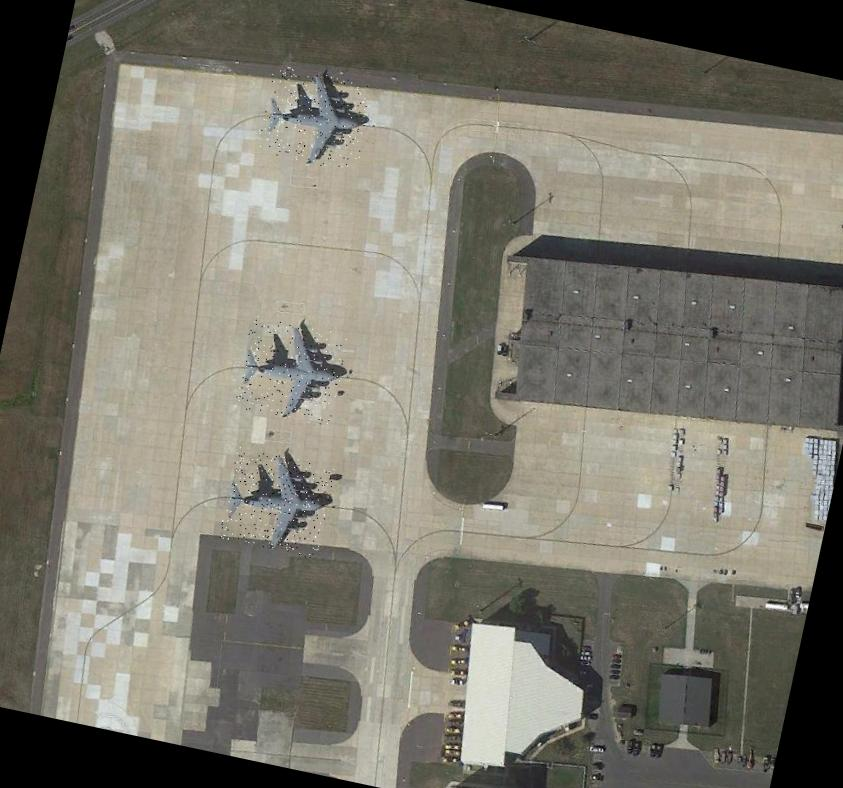A3: (218, 446, 334, 560), (254, 63, 374, 173), (232, 314, 348, 427)
